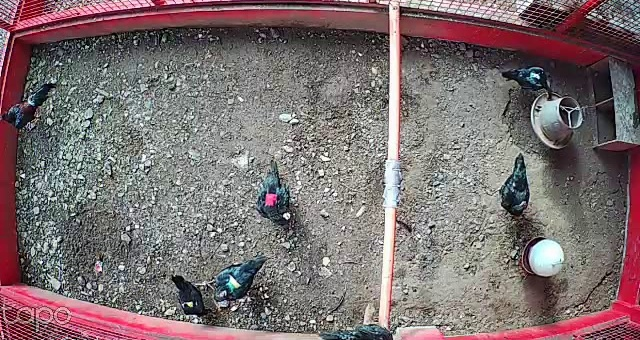Chicken: (196, 253, 265, 307), (255, 155, 298, 227), (166, 268, 218, 325), (501, 58, 557, 104), (495, 153, 533, 216)
Rooster: (0, 81, 63, 137)
Saddle_Color_Red: (265, 192, 278, 207)
Saddle_Color_Yellow: (180, 299, 195, 309)
Saddle_Color_YellowGreen: (225, 275, 240, 290)
